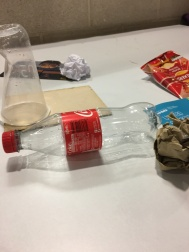bottle_red: (2, 95, 162, 171)
paper_brown: (159, 117, 189, 170)
